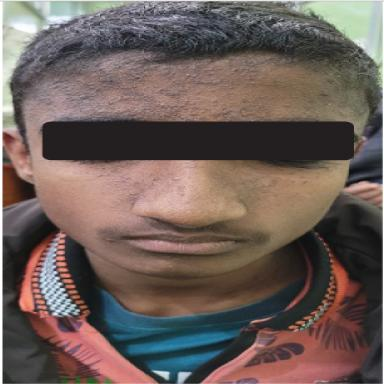Darier_s-Disease: (20, 51, 369, 121)
